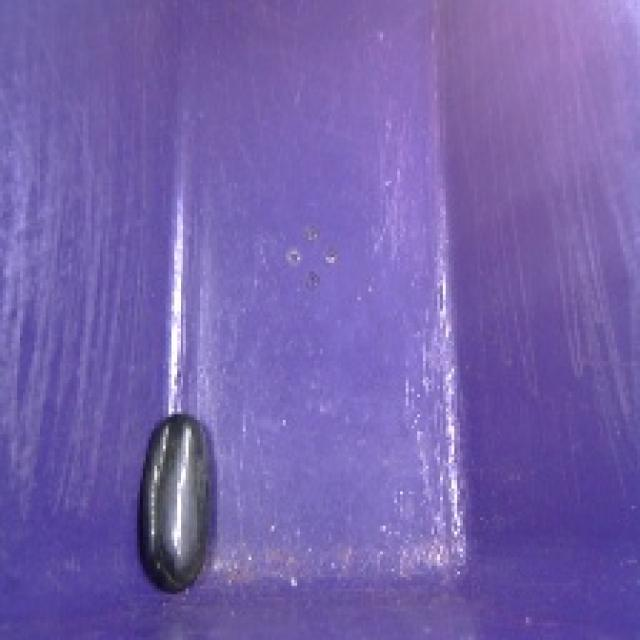cobbles: (131, 400, 222, 606)
